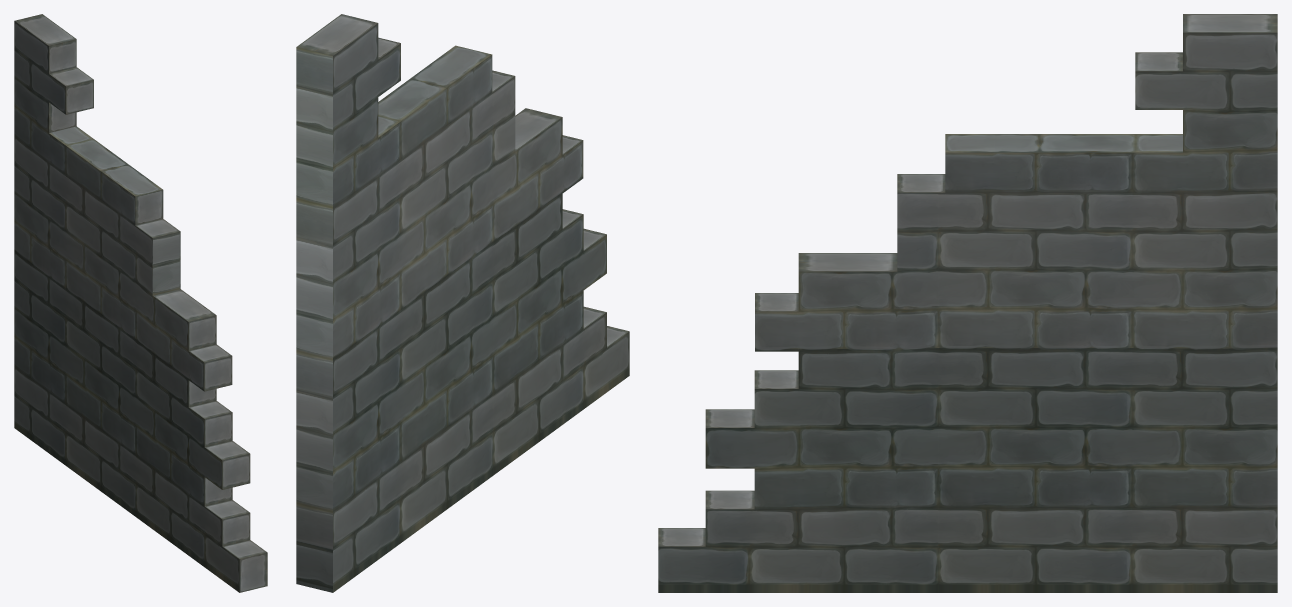
File: wallHalf 1.FBX
The picture shows the model from 3 angles, left to right: view 1: azimuth 30°, elevation 25°; view 2: azimuth 150°, elevation 25°; view 3: azimuth 270°, elevation 25°; orthographic projection. The views are drawn at different scales.
Visible parts, largest first — view 1: wall_FullBricks001; view 2: wall_FullBricks001; view 3: wall_FullBricks001.
Part boxes in pixels (left/top/right/bottom): wall_FullBricks001: left=14, top=14, right=267, bottom=592; wall_FullBricks001: left=296, top=14, right=629, bottom=592; wall_FullBricks001: left=658, top=14, right=1277, bottom=592.
Size of the model in its own units: 13.23 by 185 by 185.
1 material, 1 textured.
